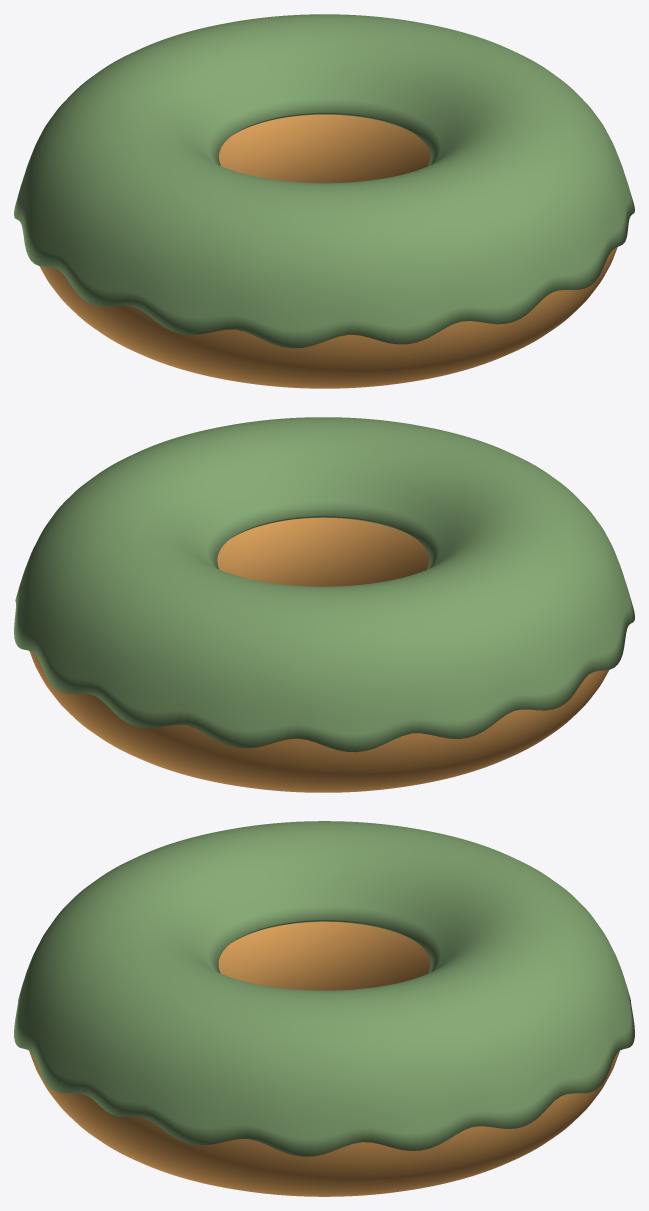
Rendered from MatchaDonut.fbx.
3 views of the same model, one above another, from view 1: azimuth 30°, elevation 25°; view 2: azimuth 150°, elevation 25°; view 3: azimuth 270°, elevation 25° (orthographic).
Parts seen in each view (by area): view 1: MatchaDonut-Glaze, MatchaDonut; view 2: MatchaDonut-Glaze, MatchaDonut; view 3: MatchaDonut-Glaze, MatchaDonut.
Boxes of the visible parts, x1,y1,x2,y2 form: MatchaDonut-Glaze: (14,14,634,348); MatchaDonut: (39,114,617,388); MatchaDonut-Glaze: (14,417,634,752); MatchaDonut: (29,517,608,792); MatchaDonut-Glaze: (14,821,634,1156); MatchaDonut: (29,921,619,1196).
Size of the model in its own units: 96.09 by 32.11 by 96.19.
